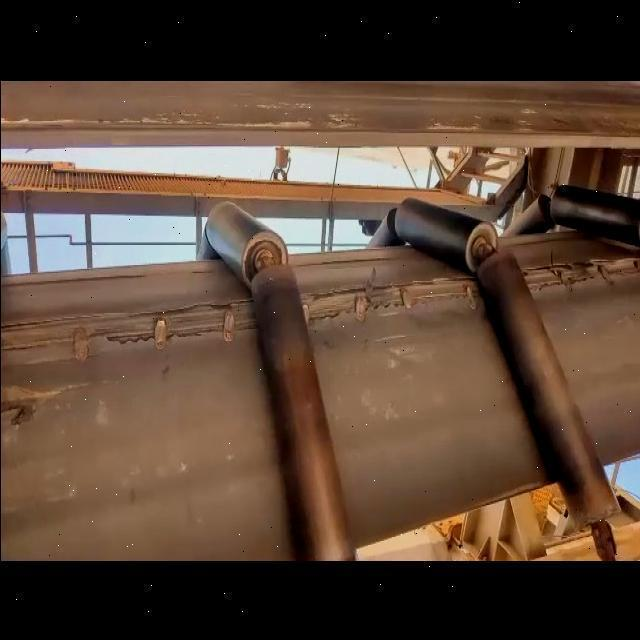Tear: (0, 292, 268, 370), (297, 266, 488, 326), (521, 246, 640, 297)
Wear: (0, 372, 85, 442)
